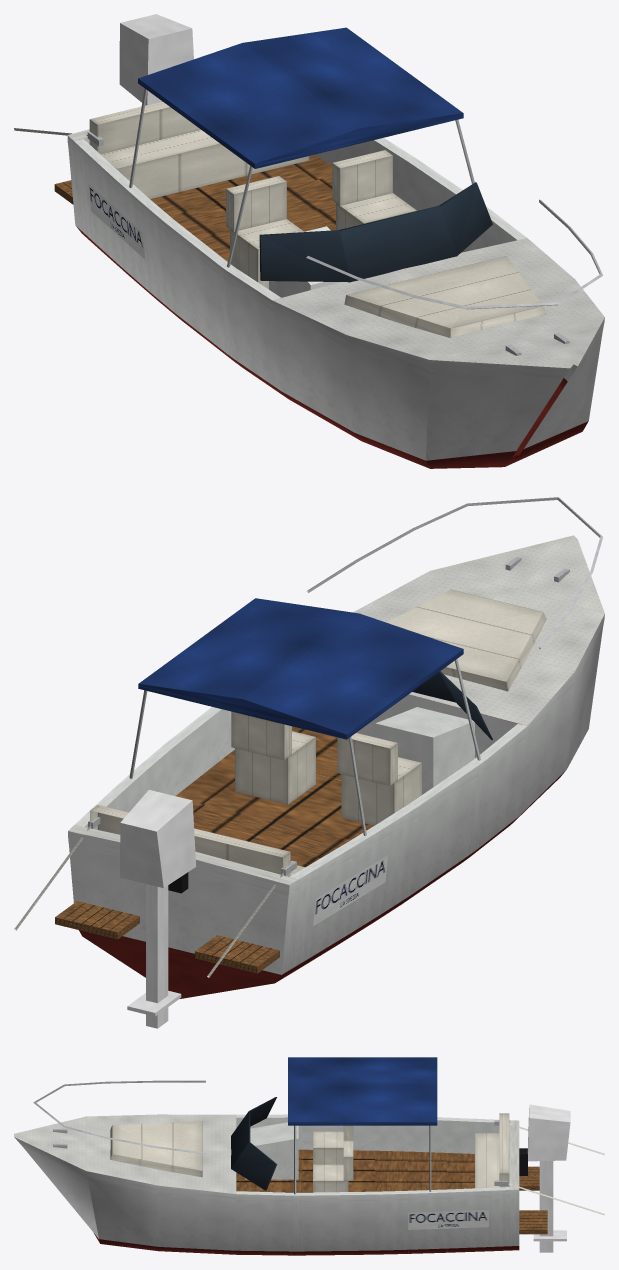
The model's file is SM_Morin_Barca_Motoscafo_TelaBlu_LOD1.fbx.
3 renders of one model, top to bottom at view 1: azimuth 30°, elevation 25°; view 2: azimuth 150°, elevation 25°; view 3: azimuth 270°, elevation 25°, orthographic. The views are drawn at different scales.
Parts seen in each view (by area): view 1: SM_Morin_Barca_Motoscafo_TelaBlu_LOD1; view 2: SM_Morin_Barca_Motoscafo_TelaBlu_LOD1; view 3: SM_Morin_Barca_Motoscafo_TelaBlu_LOD1.
Boxes of the visible parts, left/top/right/bottom form: SM_Morin_Barca_Motoscafo_TelaBlu_LOD1: left=14, top=14, right=604, bottom=468; SM_Morin_Barca_Motoscafo_TelaBlu_LOD1: left=14, top=497, right=604, bottom=1028; SM_Morin_Barca_Motoscafo_TelaBlu_LOD1: left=14, top=1057, right=604, bottom=1255.
Size of the model in its own units: 270 by 830 by 259.
Materials: 1 (1 with a texture image).
